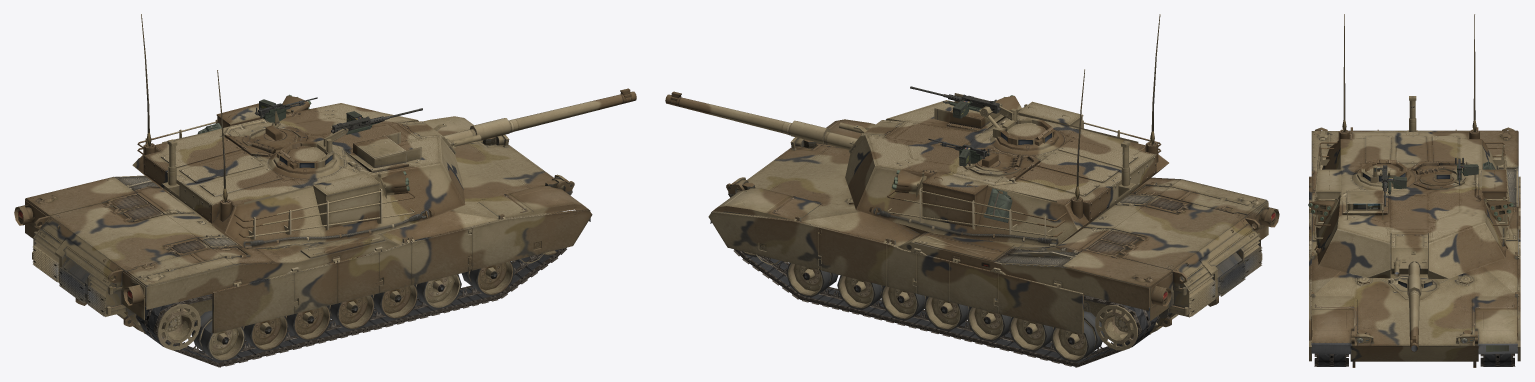
Rendered from m1a1_abrams.glb.
The picture shows the model from 3 angles, left to right: view 1: azimuth 30°, elevation 25°; view 2: azimuth 150°, elevation 25°; view 3: azimuth 270°, elevation 25°; orthographic projection. The views are drawn at different scales.
Visible parts, largest first — view 1: turret, hull, hullb, enginecover, skirt, skirt6, object01_m1-tank-turret_1_0, track1b, skirt2, track1, weapon, skirt5 (+21 smaller); view 2: turret, hull, hullb, enginecover, skirt8, skirt13, object01_m1-tank-turret_1_0, track2b, skirt9, track2, weapon, skirt12 (+21 smaller); view 3: turret, hull, fromtlowerhull, hullb, object01_m1-tank-turret_1_0, mount, weapon, object02_m1-tank-turret_1_0, mount4, s-base, hatch3, antenna (+10 smaller).
Boxes of the visible parts, <box> form: turret: <box>132,103,465,249</box>; hull: <box>25,116,590,332</box>; hullb: <box>14,175,275,326</box>; enginecover: <box>50,203,225,271</box>; skirt: <box>468,209,592,270</box>; skirt6: <box>212,270,298,333</box>; object01_m1-tank-turret_1_0: <box>216,103,379,227</box>; track1b: <box>137,211,562,363</box>; skirt2: <box>410,226,471,285</box>; track1: <box>136,247,566,367</box>; weapon: <box>443,88,636,146</box>; skirt5: <box>291,260,337,313</box>; turret: <box>845,93,1168,247</box>; hull: <box>710,119,1268,332</box>; hullb: <box>1002,177,1279,337</box>; enginecover: <box>1084,203,1247,270</box>; skirt8: <box>708,211,821,269</box>; skirt13: <box>994,270,1083,333</box>; object01_m1-tank-turret_1_0: <box>922,101,1083,227</box>; track2b: <box>739,250,1157,363</box>; skirt9: <box>818,226,887,286</box>; track2: <box>733,249,1159,367</box>; weapon: <box>665,91,857,149</box>; skirt12: <box>949,259,1000,313</box>; turret: <box>1314,96,1507,278</box>; hull: <box>1310,131,1519,367</box>; fromtlowerhull: <box>1350,345,1478,361</box>; hullb: <box>1310,127,1519,203</box>; object01_m1-tank-turret_1_0: <box>1316,169,1507,221</box>; mount: <box>1391,232,1427,274</box>; weapon: <box>1407,261,1421,352</box>; object02_m1-tank-turret_1_0: <box>1314,142,1509,238</box>; mount4: <box>1357,159,1411,187</box>; s-base: <box>1309,197,1512,221</box>; hatch3: <box>1387,278,1439,300</box>; antenna: <box>1342,14,1476,131</box>.
Bounding box in the file's own units: 9.65 × 4.58 × 3.65.
Materials: 9 (9 with a texture image).
